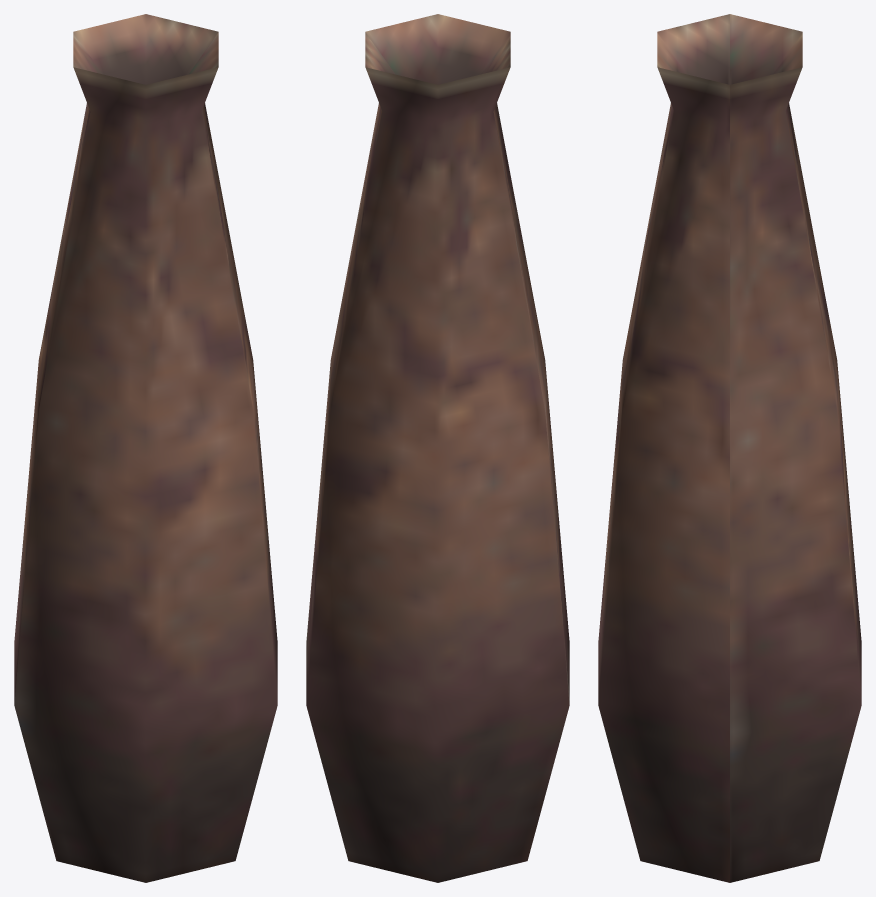
File: SC_huangmo_16.FBX
3 renders of one model, left to right at view 1: azimuth 30°, elevation 25°; view 2: azimuth 150°, elevation 25°; view 3: azimuth 270°, elevation 25°, orthographic.
Parts seen in each view (by area): view 1: SC_huangmo_16; view 2: SC_huangmo_16; view 3: SC_huangmo_16.
Boxes of the visible parts, x1,y1,x2,y2 form: SC_huangmo_16: [14, 14, 277, 882]; SC_huangmo_16: [306, 14, 569, 882]; SC_huangmo_16: [598, 14, 861, 882].
Bounding box in the file's own units: 42 × 120 × 36.37.
